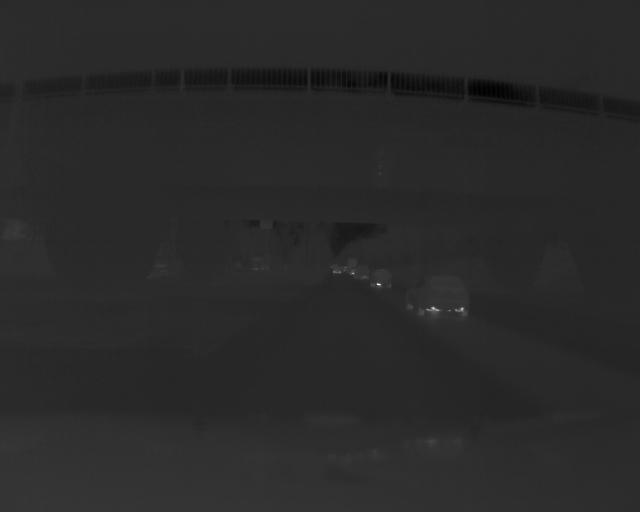car: (404, 272, 468, 317), (366, 266, 391, 290)
